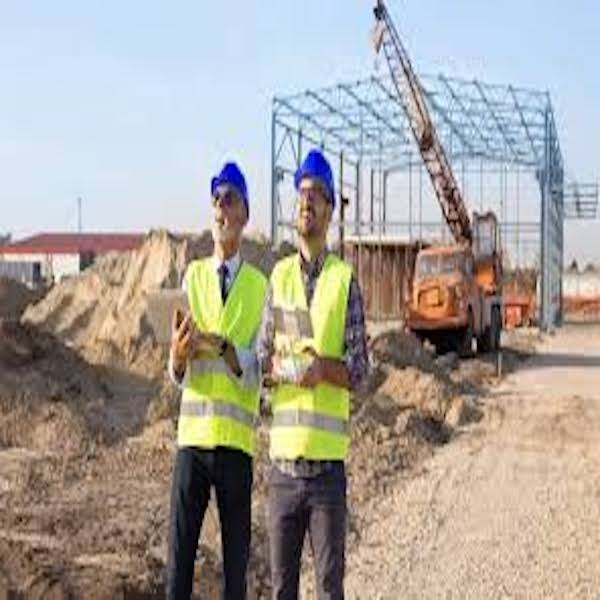helmet: (292, 151, 337, 186), (210, 162, 253, 197)
vest: (264, 251, 354, 456), (180, 248, 261, 455)
